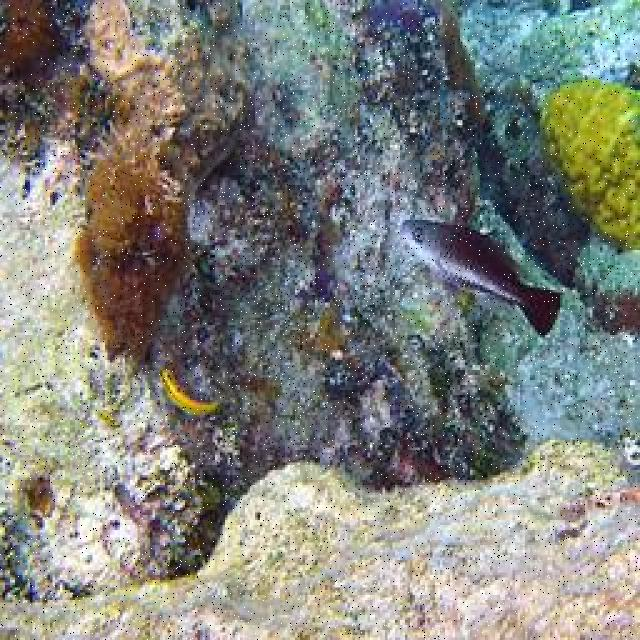fish: (404, 218, 564, 337)
reefs: (535, 77, 638, 250)
sea-floor: (1, 0, 638, 595), (0, 436, 638, 638)
